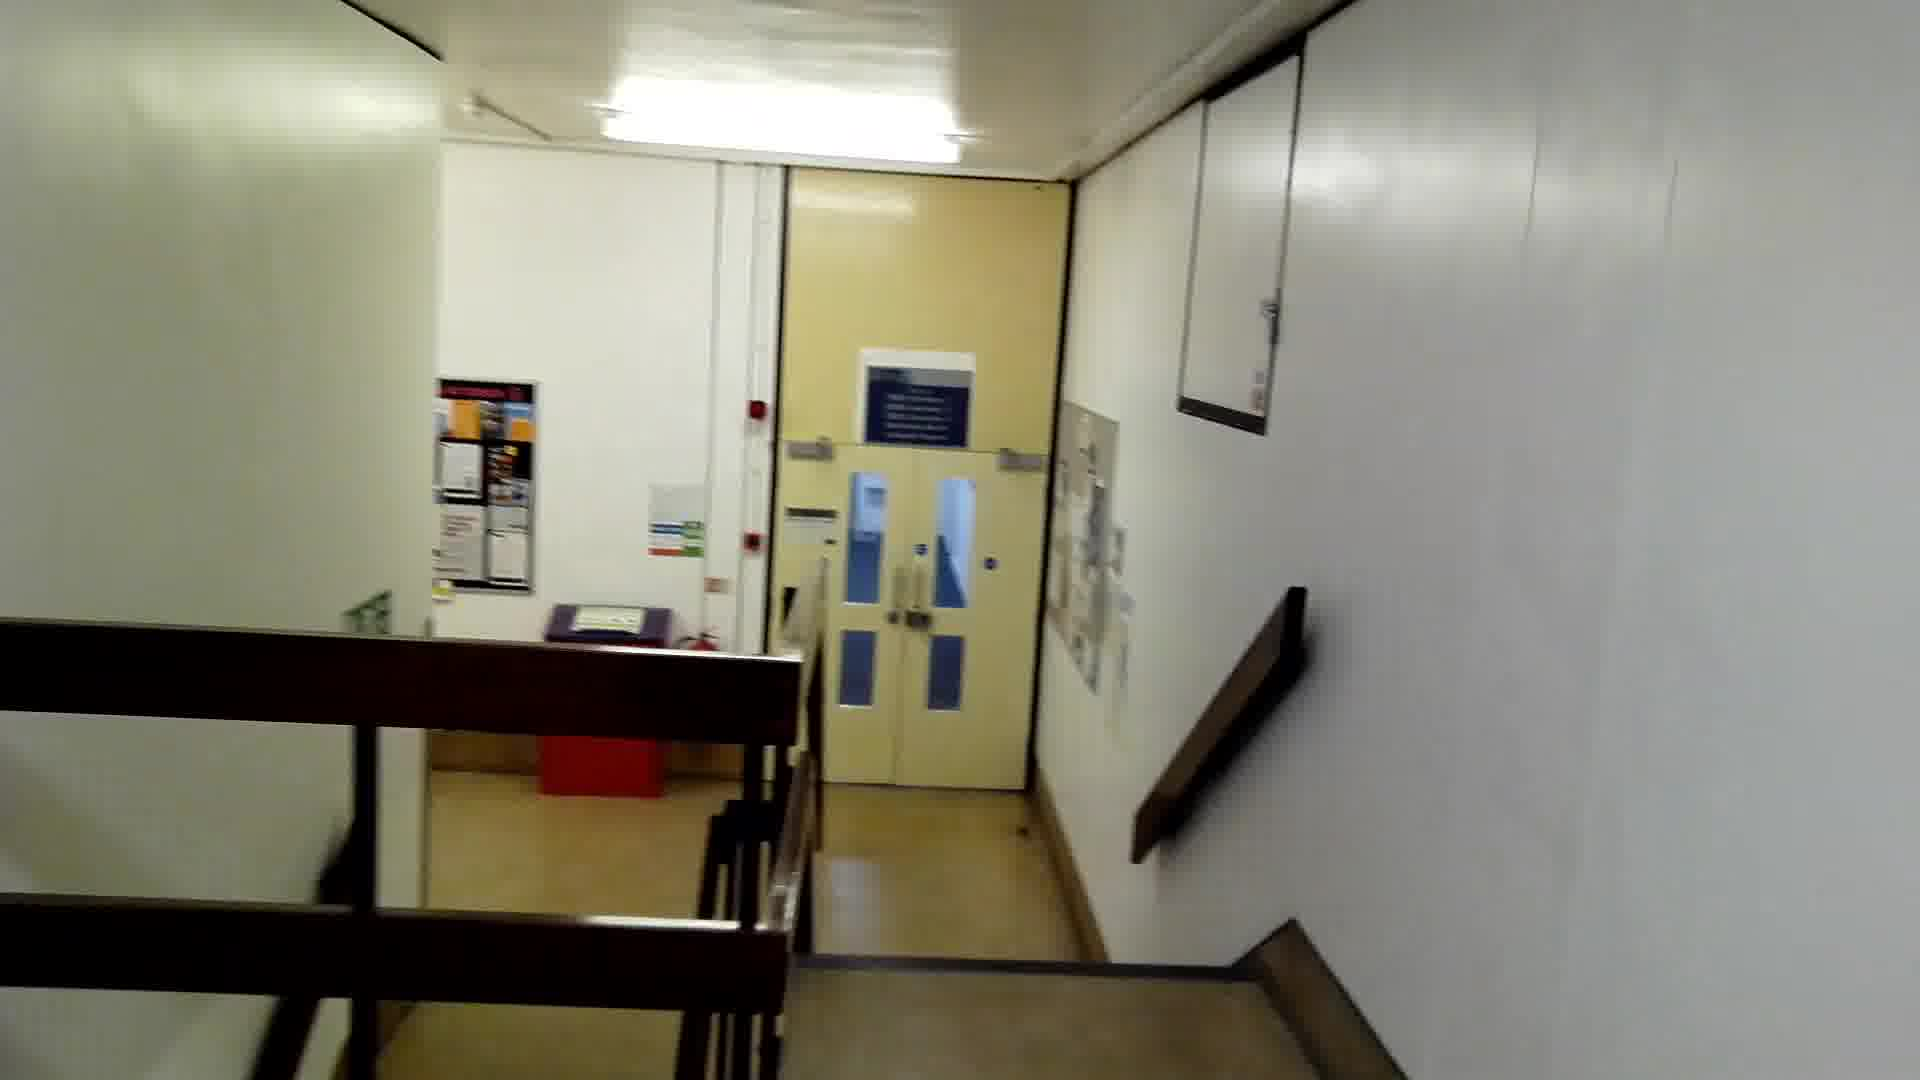Door: (760, 434, 1054, 814)
Stairs: (742, 827, 1323, 1023)
